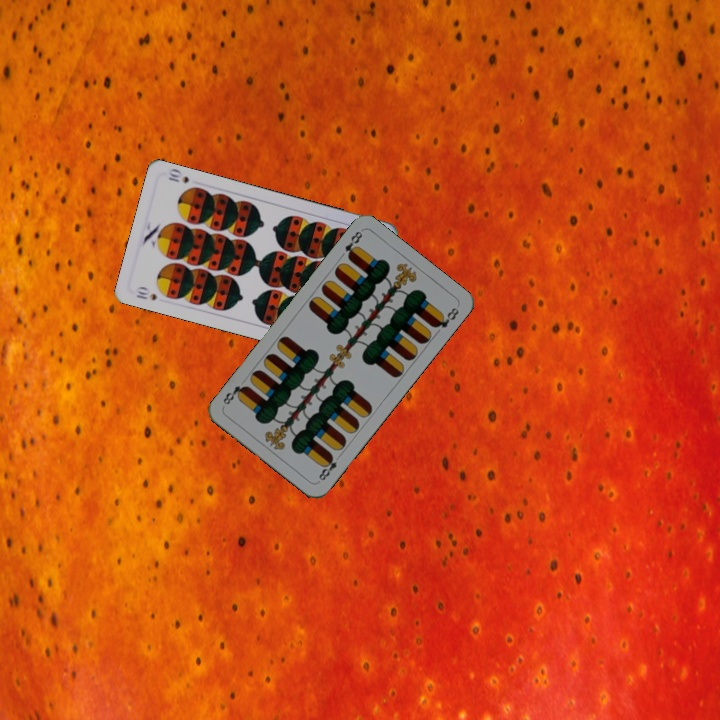E8: (314, 451, 340, 485), (341, 227, 365, 262)
S10: (132, 283, 160, 303)
